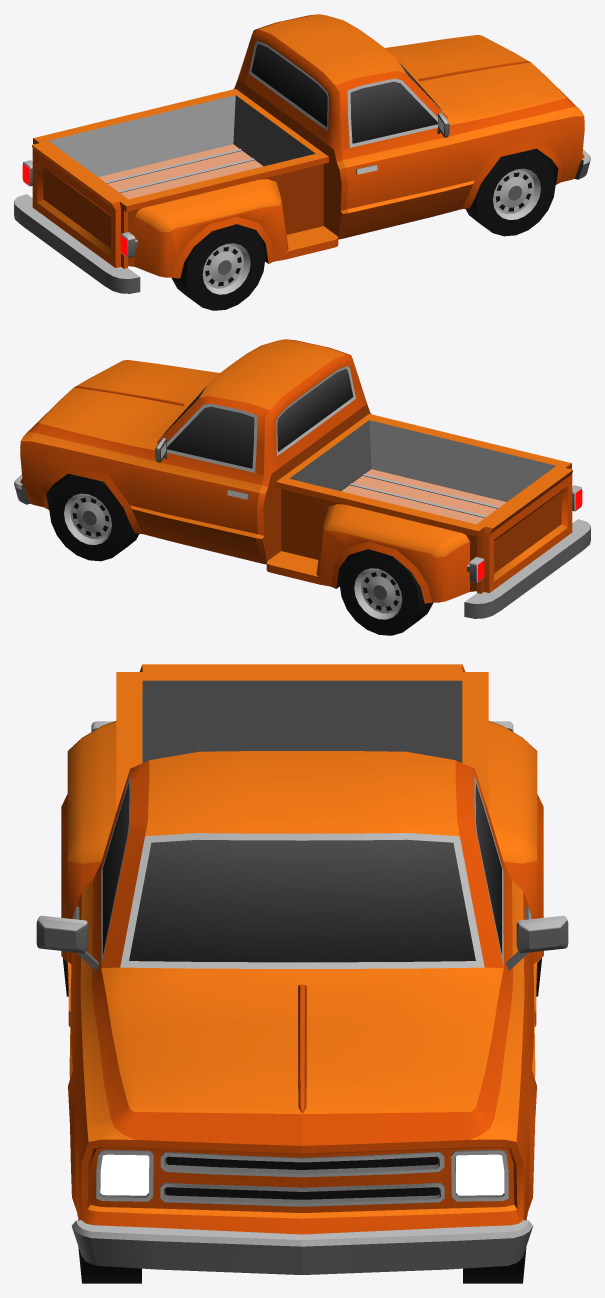
The model's file is Car_021.glb.
The picture shows the model from 3 angles, top to bottom: view 1: azimuth 30°, elevation 25°; view 2: azimuth 150°, elevation 25°; view 3: azimuth 270°, elevation 25°; orthographic projection. The views are drawn at different scales.
Parts seen in each view (by area): view 1: Car_021, wheel_3_Car_021_Wheel_2R, wheel_1_Car_021_Wheel_1R; view 2: Car_021, wheel_2_Car_021_Wheel_2L, wheel_0_Car_021_Wheel_1L; view 3: Car_021, wheel_1_Car_021_Wheel_1R, wheel_0_Car_021_Wheel_1L.
Part boxes in pixels (x1=…): Car_021: x1=14, y1=14, x2=590, y2=293; wheel_3_Car_021_Wheel_2R: x1=171, y1=224, x2=265, y2=310; wheel_1_Car_021_Wheel_1R: x1=465, y1=149, x2=555, y2=236; Car_021: x1=14, y1=339, x2=590, y2=618; wheel_2_Car_021_Wheel_2L: x1=339, y1=549, x2=433, y2=635; wheel_0_Car_021_Wheel_1L: x1=49, y1=474, x2=139, y2=561; Car_021: x1=36, y1=664, x2=568, y2=1274; wheel_1_Car_021_Wheel_1R: x1=78, y1=1218, x2=141, y2=1283; wheel_0_Car_021_Wheel_1L: x1=463, y1=1218, x2=526, y2=1283.
Bounding box in the file's own units: 4.83 × 1.76 × 2.3.
Materials: 2 (2 with a texture image).
